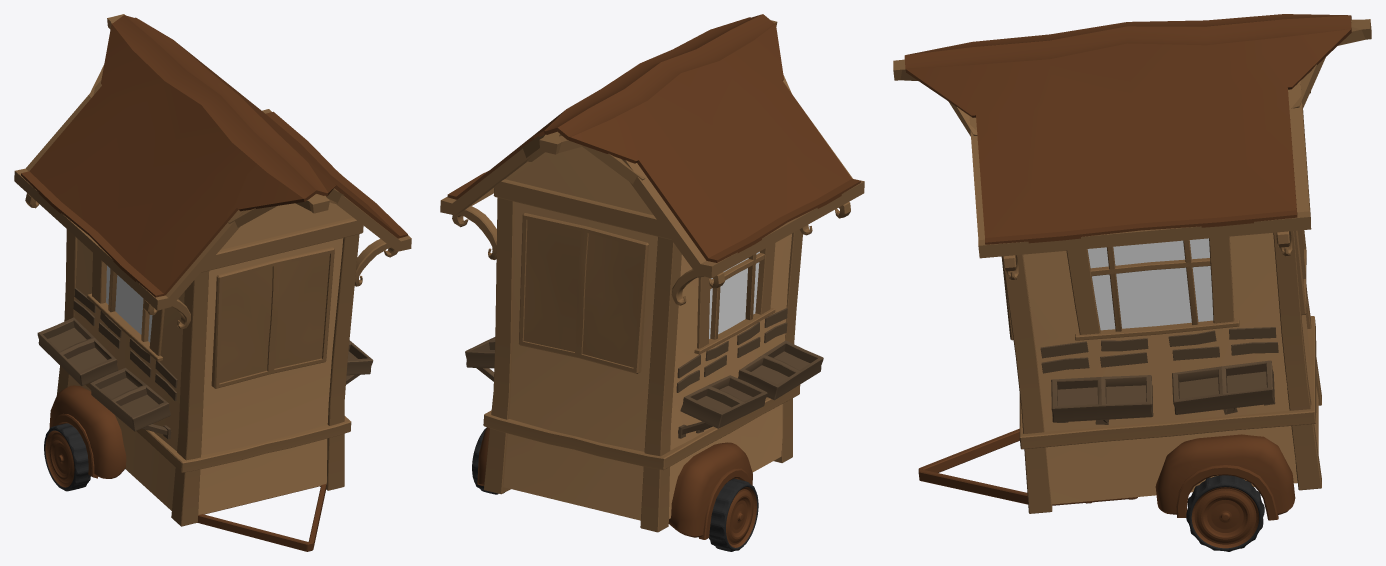
Rendered from farmStand.fbx.
The picture shows the model from 3 angles, left to right: view 1: azimuth 30°, elevation 25°; view 2: azimuth 150°, elevation 25°; view 3: azimuth 270°, elevation 25°; orthographic projection. The views are drawn at different scales.
Parts seen in each view (by area): view 1: FarmStandMain, roofSheeting, roofing, wheelWells, wheels, trailerFrame; view 2: FarmStandMain, roofSheeting, roofing, wheelWells, wheels; view 3: roofSheeting, FarmStandMain, roofing, wheelWells, wheels, trailerFrame.
Part boxes in pixels (left/top/right/bottom): FarmStandMain: left=25, top=193, right=397, bottom=526; roofSheeting: left=21, top=15, right=407, bottom=297; roofing: left=14, top=14, right=411, bottom=310; wheelWells: left=49, top=385, right=126, bottom=478; wheels: left=44, top=423, right=90, bottom=491; trailerFrame: left=197, top=484, right=326, bottom=551; FarmStandMain: left=452, top=147, right=850, bottom=532; roofSheeting: left=447, top=14, right=860, bottom=262; roofing: left=440, top=20, right=864, bottom=278; wheelWells: left=477, top=427, right=752, bottom=539; wheels: left=472, top=427, right=758, bottom=551; roofSheeting: left=904, top=14, right=1351, bottom=244; FarmStandMain: left=1001, top=230, right=1321, bottom=513; roofing: left=893, top=19, right=1371, bottom=258; wheelWells: left=1155, top=434, right=1295, bottom=520; wheels: left=1186, top=475, right=1264, bottom=551; trailerFrame: left=918, top=428, right=1137, bottom=505.
Size of the model in its own units: 211 by 321 by 295.
